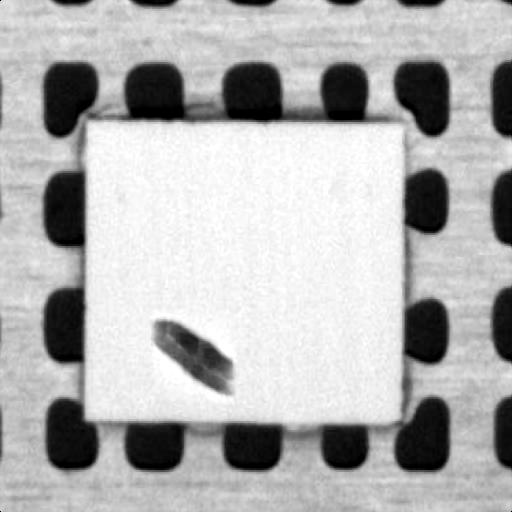DIE_INK: (146, 312, 234, 392)
